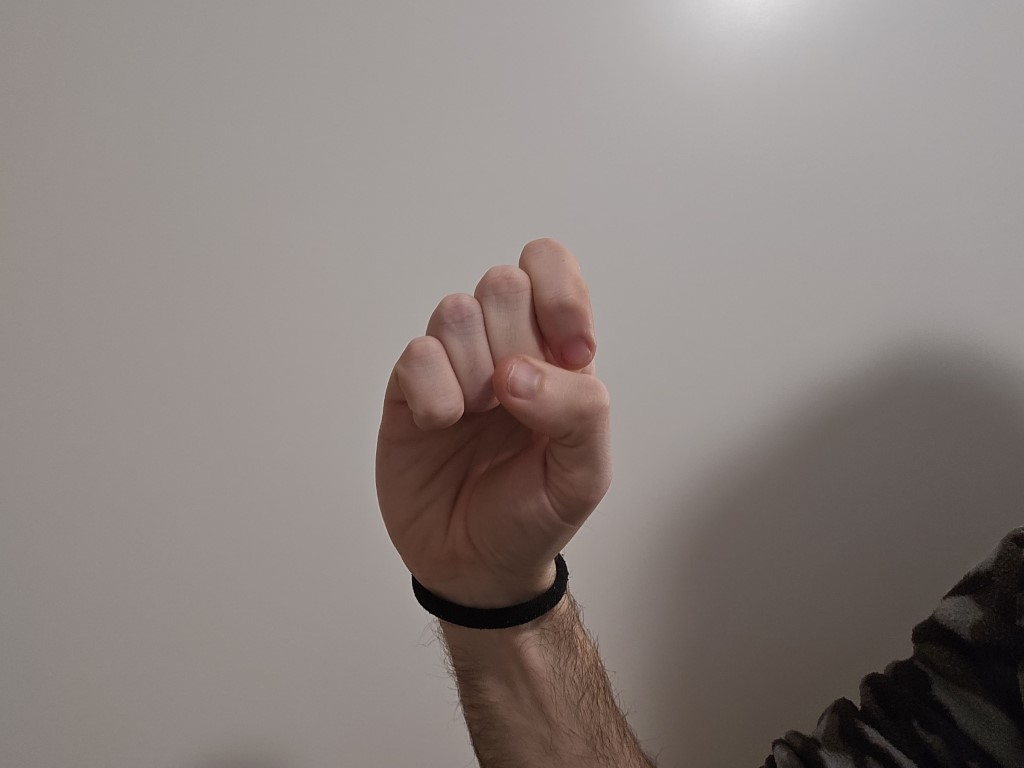s: (346, 228, 646, 593)
